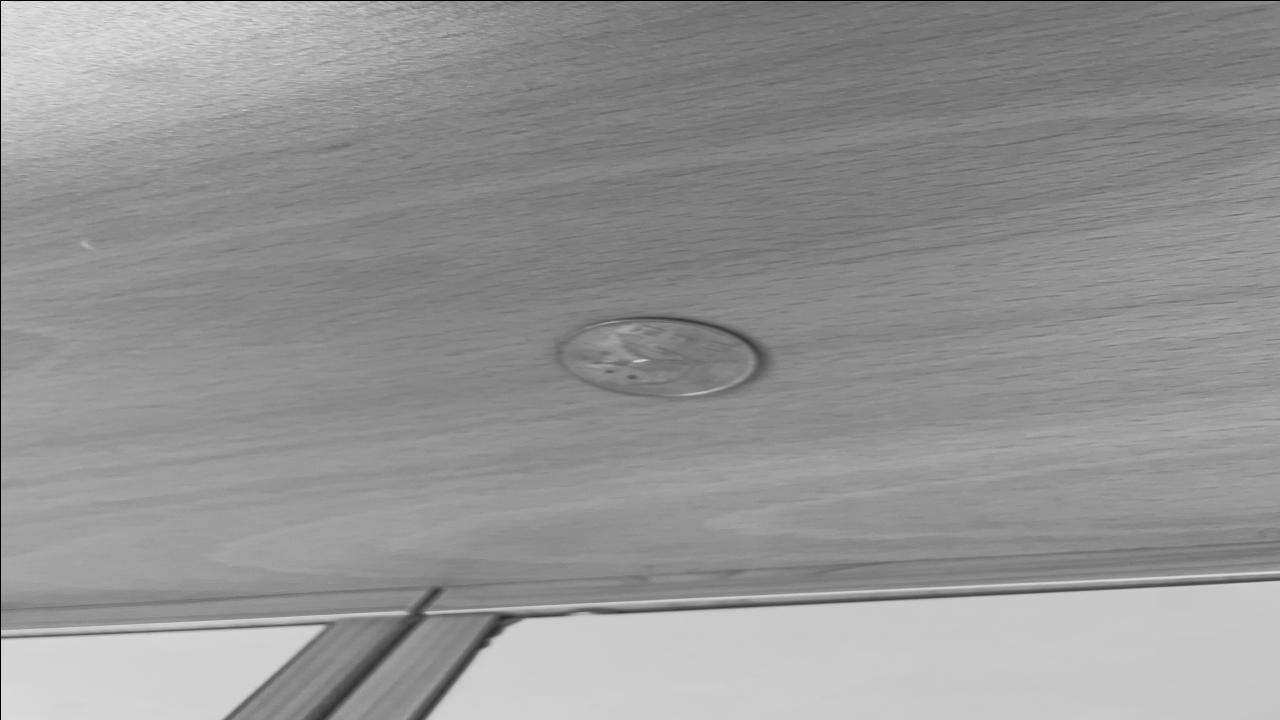coin: (548, 316, 762, 398)
